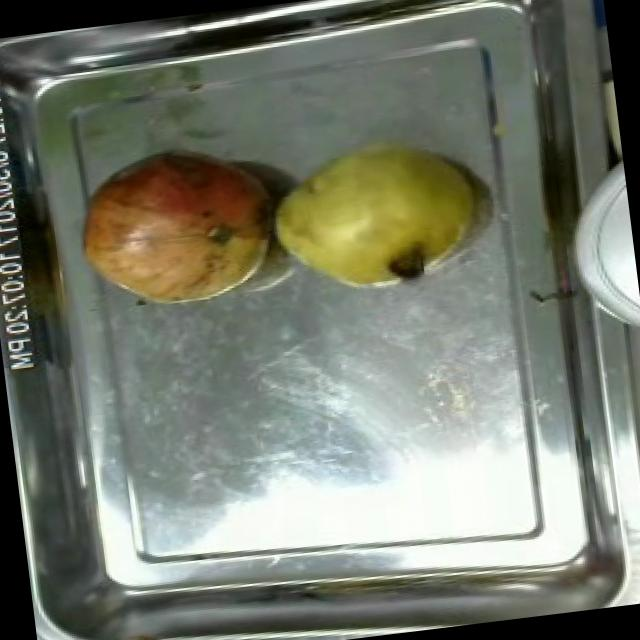fruit: (252, 115, 498, 308), (61, 134, 297, 323), (101, 624, 208, 640)
